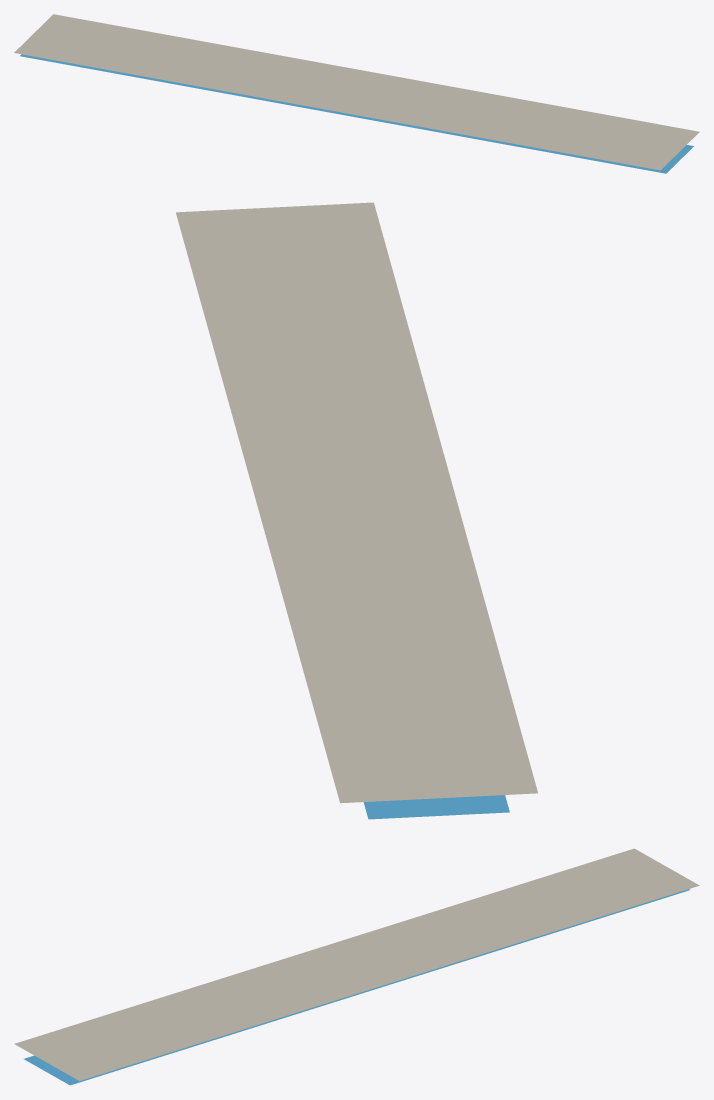
3 renders of one model, top to bottom at view 1: azimuth 30°, elevation 25°; view 2: azimuth 150°, elevation 25°; view 3: azimuth 270°, elevation 25°, orthographic. The views are drawn at different scales.
Visible parts, largest first — view 1: estructura_terreno, estructura_agua; view 2: estructura_terreno, estructura_agua; view 3: estructura_terreno, estructura_agua.
Boxes of the visible parts, left/top/right/bottom form: estructura_terreno: left=14, top=14, right=699, bottom=170; estructura_agua: left=20, top=54, right=693, bottom=173; estructura_terreno: left=176, top=202, right=537, bottom=803; estructura_agua: left=363, top=795, right=509, bottom=819; estructura_terreno: left=14, top=848, right=699, bottom=1080; estructura_agua: left=24, top=889, right=689, bottom=1085.
Bounding box in the file's own units: 21.08 × 0.41 × 26.27.
